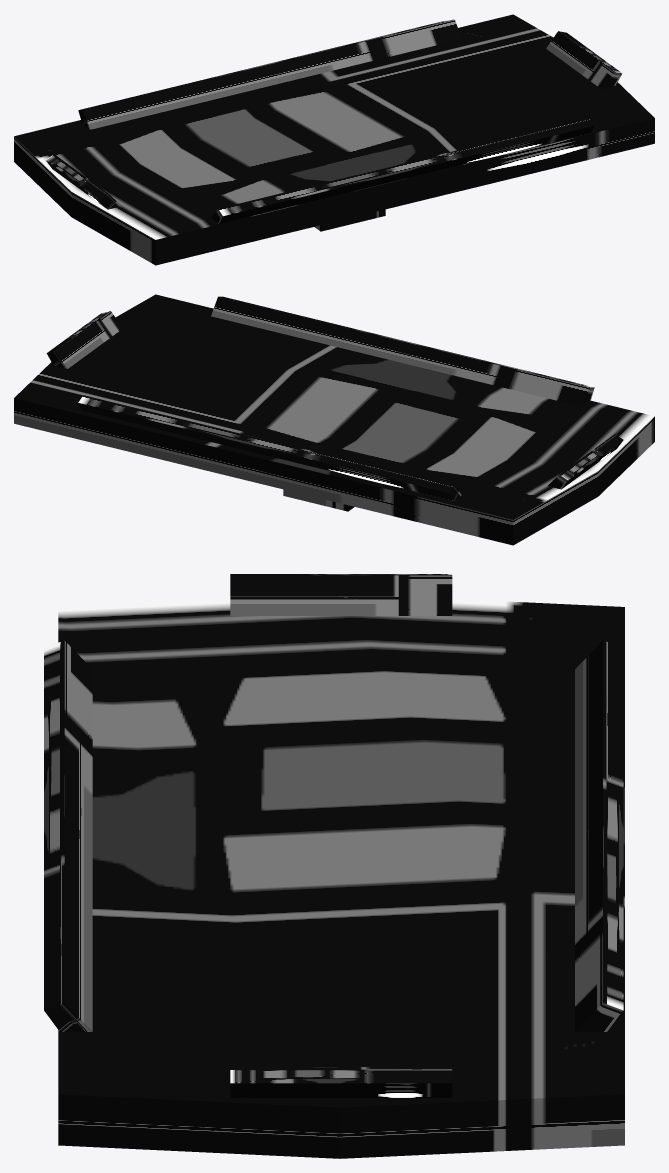
File: SquaredRetangularPlatformCollision.fbx
3 views of the same model, one above another, from view 1: azimuth 30°, elevation 25°; view 2: azimuth 150°, elevation 25°; view 3: azimuth 270°, elevation 25° (orthographic). The views are drawn at different scales.
Visible parts, largest first — view 1: PlatformSquaredRetangular; view 2: PlatformSquaredRetangular; view 3: PlatformSquaredRetangular.
Part boxes in pixels (x1,y1,x2,y2): PlatformSquaredRetangular: [14, 14, 654, 265]; PlatformSquaredRetangular: [14, 294, 654, 545]; PlatformSquaredRetangular: [44, 574, 624, 1158].
Size of the model in its own units: 459 by 81.15 by 219.
